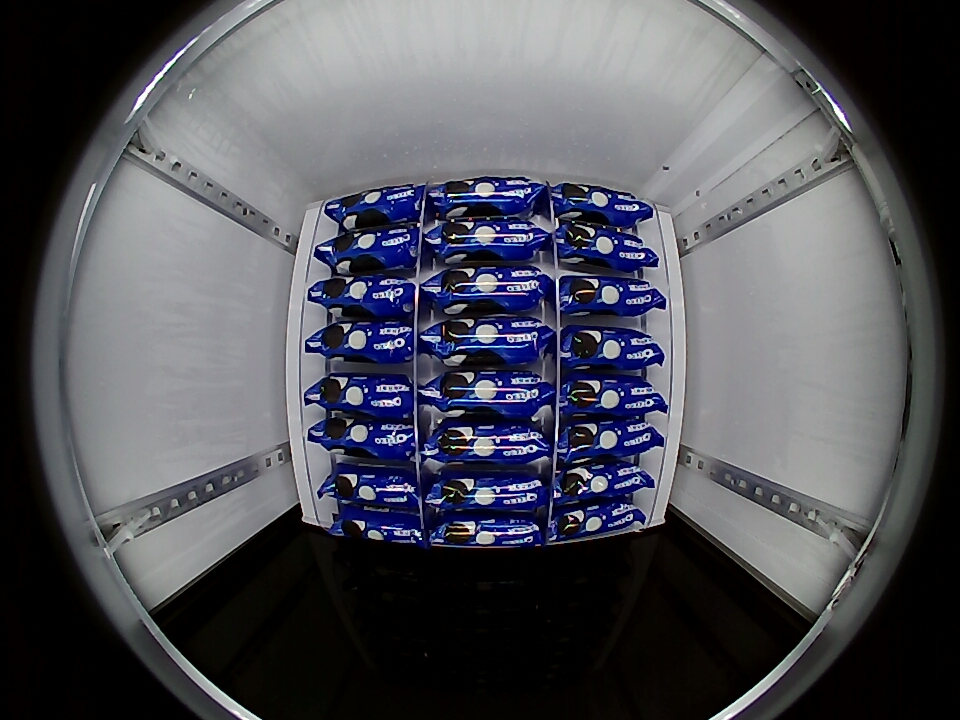aoliao: (426, 418, 550, 472), (430, 368, 551, 421), (434, 313, 551, 367), (432, 262, 550, 315), (551, 268, 667, 321), (430, 212, 547, 263), (564, 371, 669, 425), (426, 471, 547, 517), (428, 174, 548, 220), (560, 323, 666, 374), (307, 371, 415, 421), (319, 460, 419, 513), (556, 222, 657, 274), (307, 415, 416, 462), (310, 317, 416, 365), (311, 271, 415, 318), (318, 182, 425, 227), (553, 421, 665, 463), (548, 498, 650, 544), (323, 222, 420, 270), (428, 511, 544, 550), (560, 459, 653, 507), (548, 182, 656, 222), (337, 502, 425, 546)
